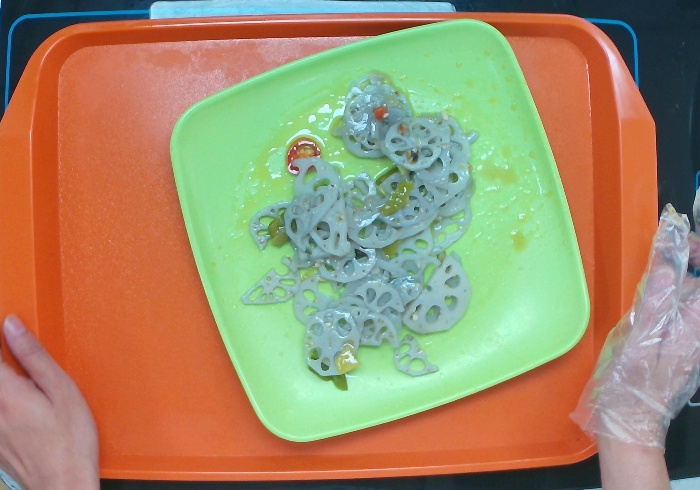ZNLD-Lv_Fang_Pan: (168, 16, 591, 443)
